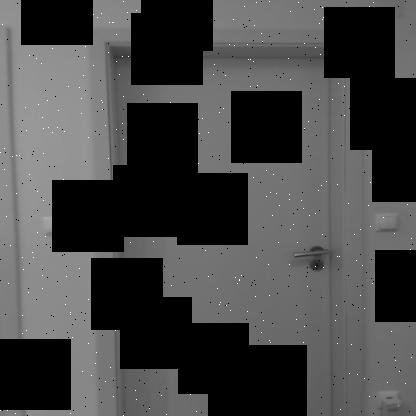Porte: (84, 28, 368, 415)
